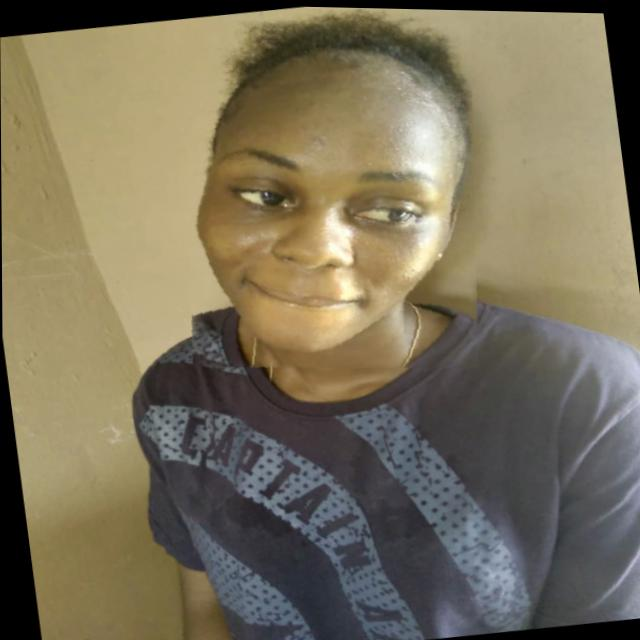happy: (157, 3, 504, 393)
